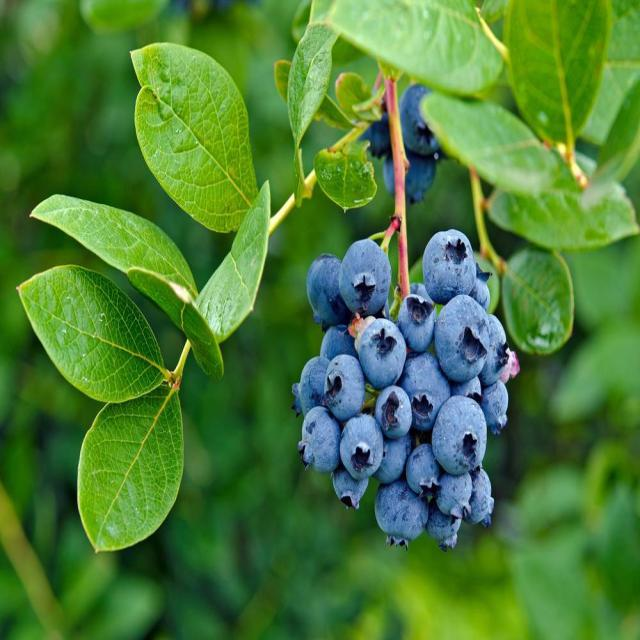BlueBerry - v1: (428, 389, 492, 482), (433, 291, 494, 387), (333, 232, 398, 320), (415, 224, 480, 310), (394, 76, 451, 168), (398, 352, 456, 438), (354, 306, 410, 392), (369, 475, 430, 550), (304, 248, 353, 334), (296, 400, 347, 480), (339, 410, 391, 482), (318, 351, 368, 423), (351, 96, 396, 174), (329, 454, 379, 516), (287, 347, 331, 416), (432, 463, 479, 526), (404, 436, 445, 506), (400, 154, 446, 216), (370, 381, 414, 445), (396, 289, 436, 359), (313, 319, 360, 375), (464, 463, 498, 535), (376, 429, 416, 490), (477, 371, 514, 435), (481, 310, 513, 381), (468, 252, 500, 316), (428, 509, 462, 554)
